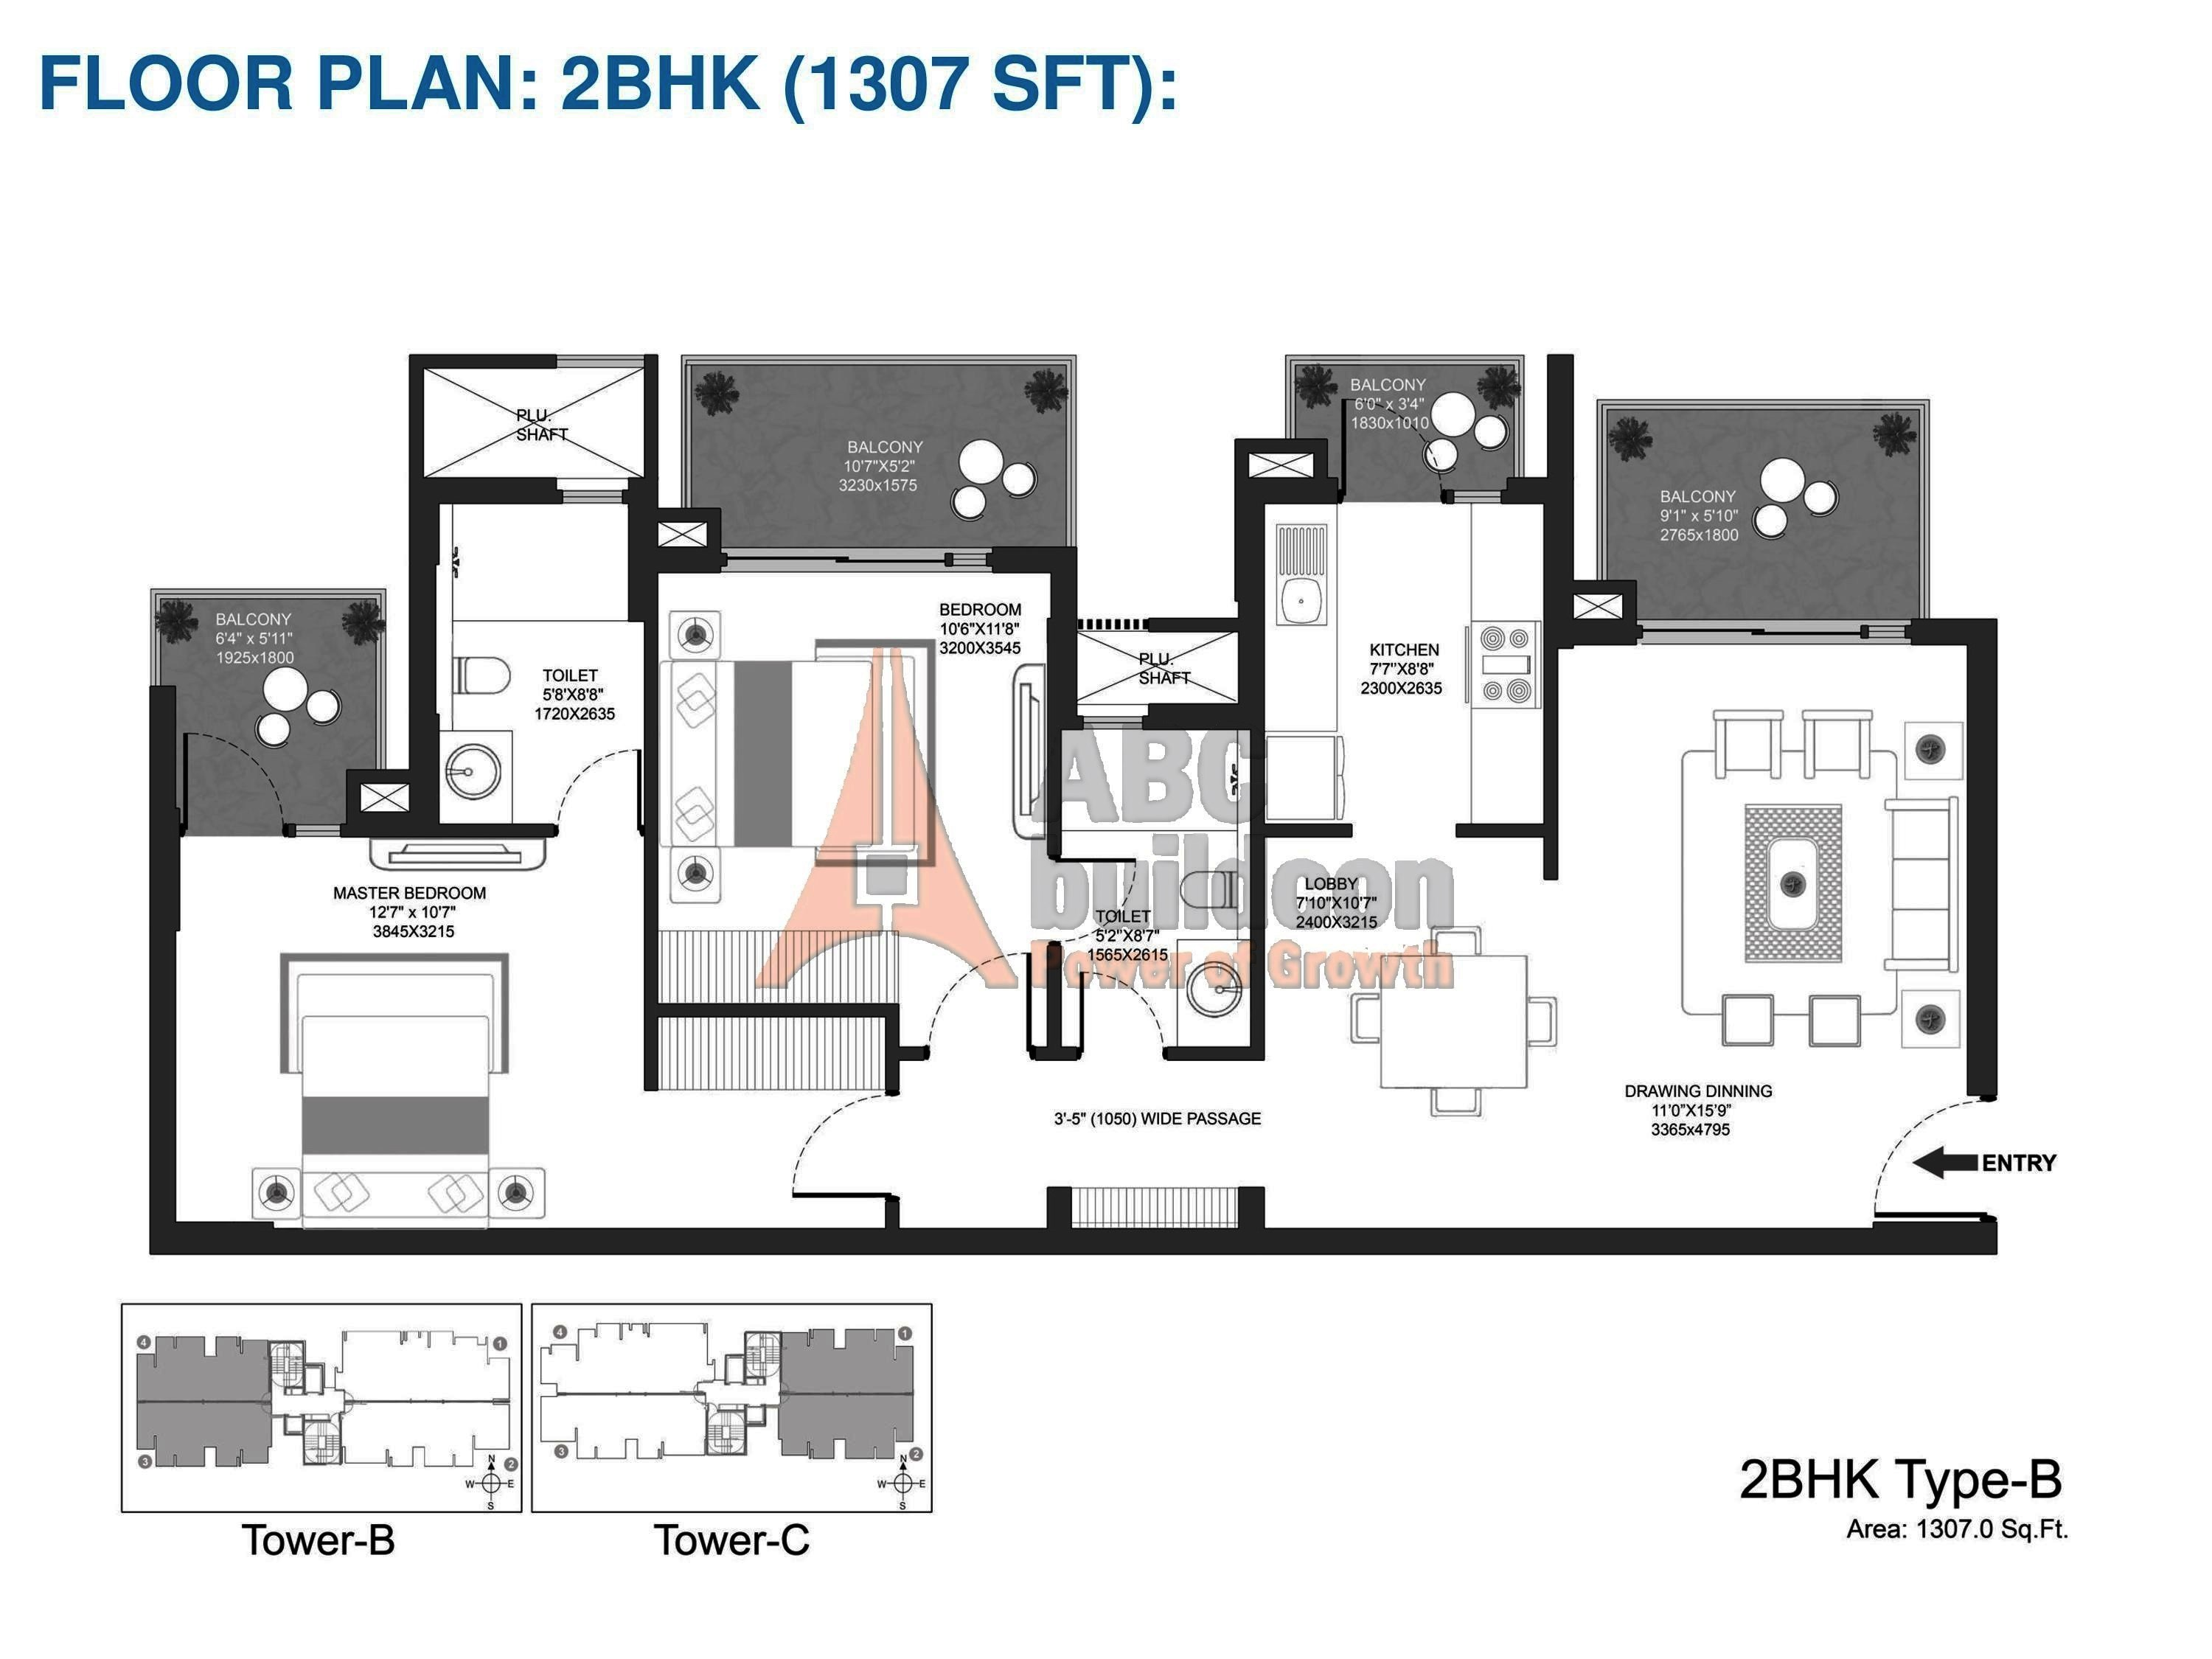door: (1865, 1100, 1968, 1220), (779, 1093, 880, 1201), (934, 946, 1038, 1040), (179, 728, 275, 812), (1339, 394, 1421, 490), (1073, 967, 1169, 1046), (1062, 854, 1146, 939), (557, 742, 641, 816)
